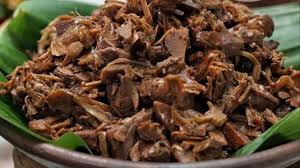Gudeg: (1, 2, 298, 165)
